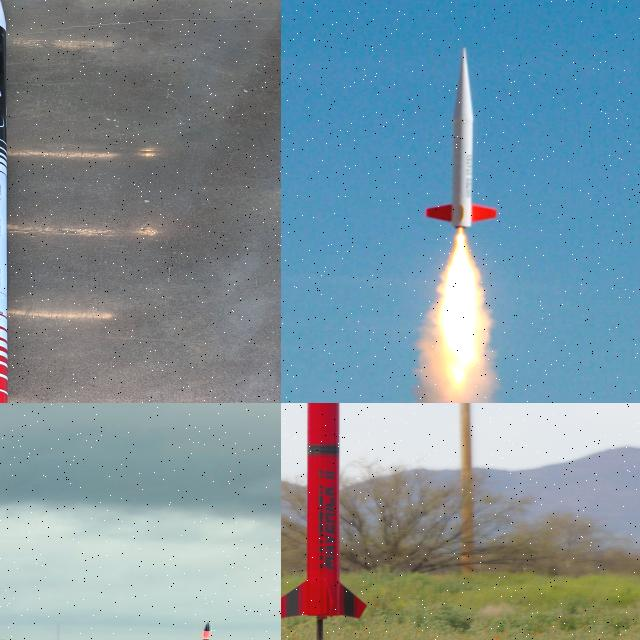Rocket: (281, 403, 374, 620), (424, 45, 498, 230), (181, 620, 212, 640)
